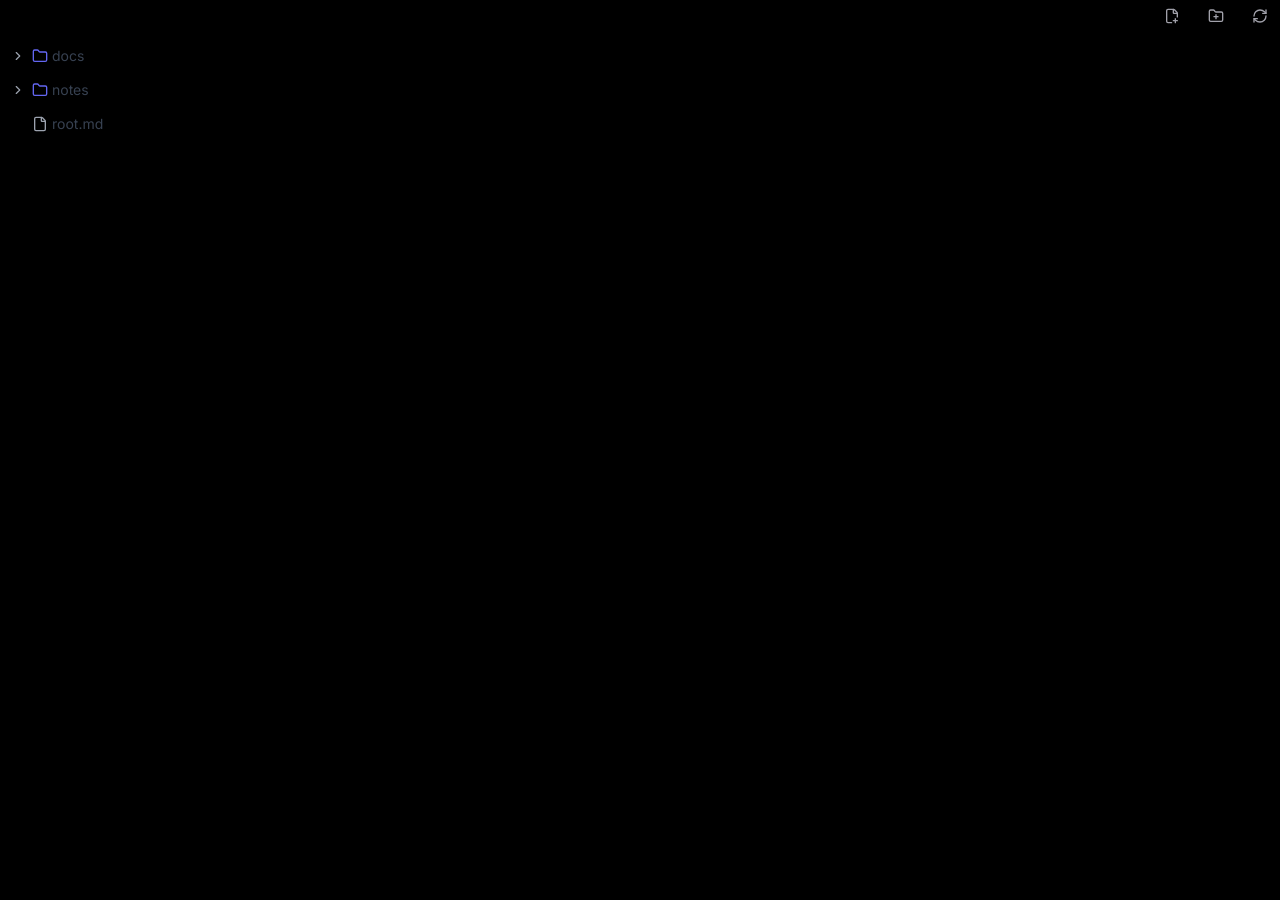
FileTree › delete › opens confirmation modal for folder deletion with child count
This screenshot has width=1280, height=900.
Right-click the text "docs" at (46, 56), box [8,46,84,66]
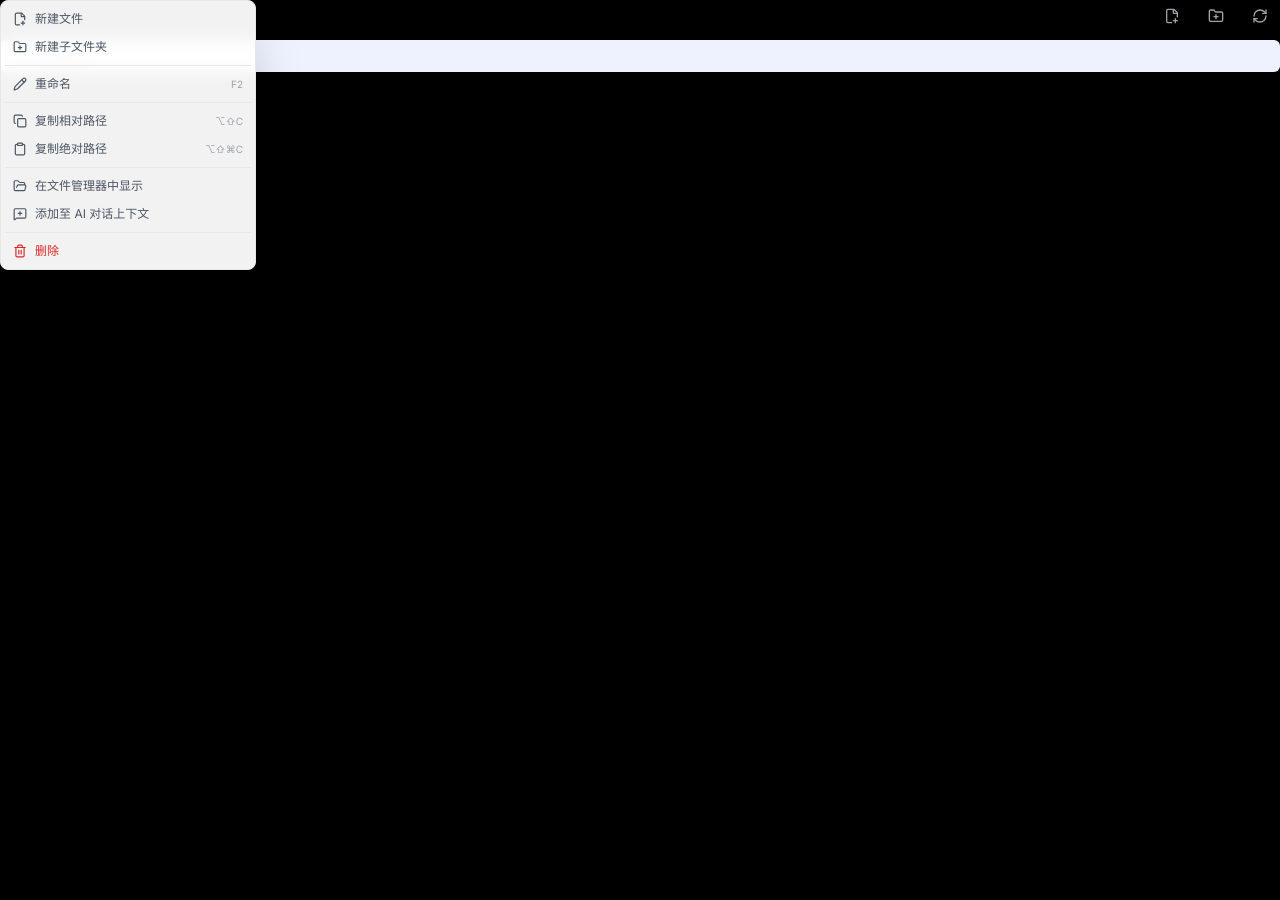
Click the menu item "删除". click: (128, 251)
box: [5,237,251,265]
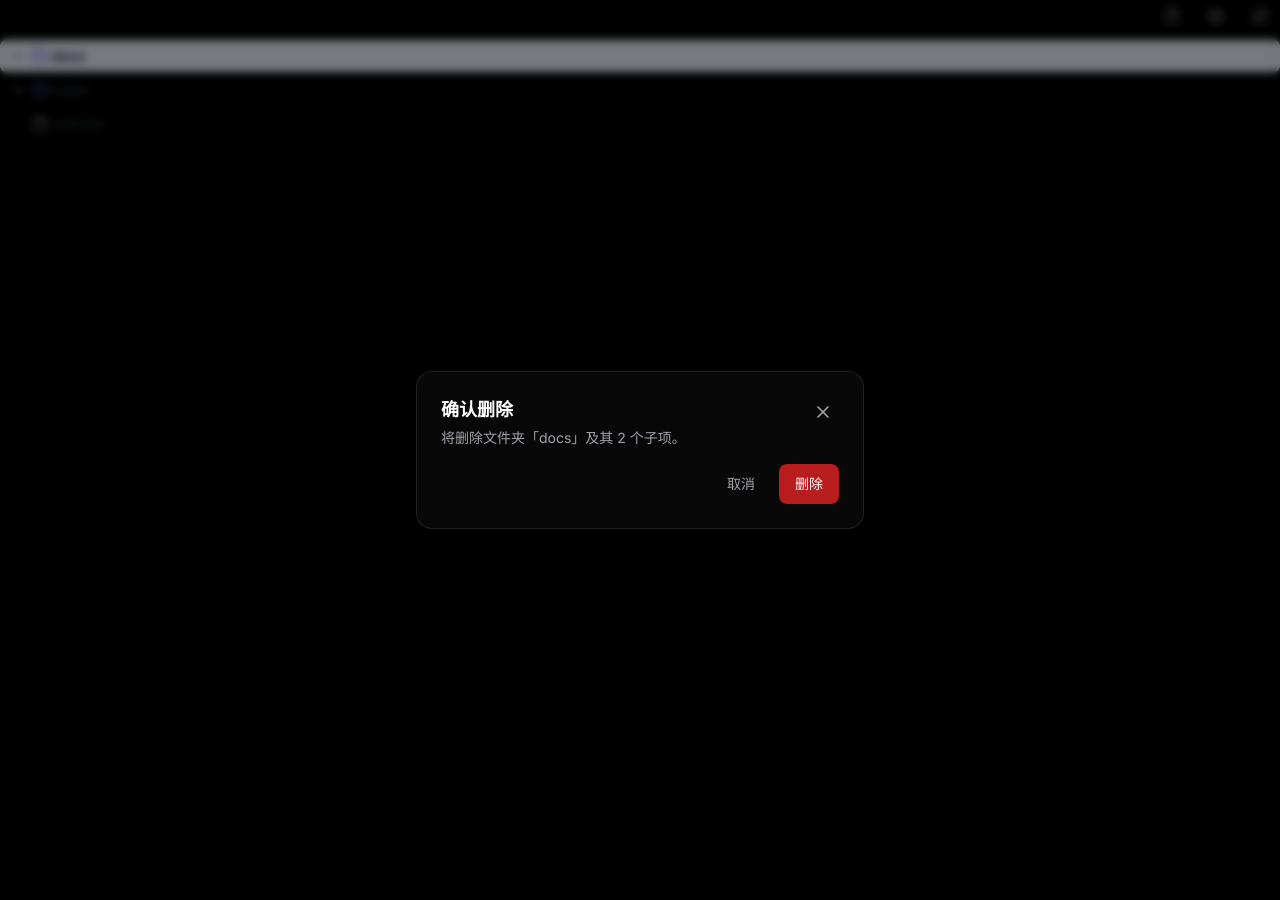
Expected: the heading "确认删除" is shown, [441,399,513,420]
Expected: the text "将删除文件夹「docs」及其 2 个子项。" is shown, [441,429,686,446]
